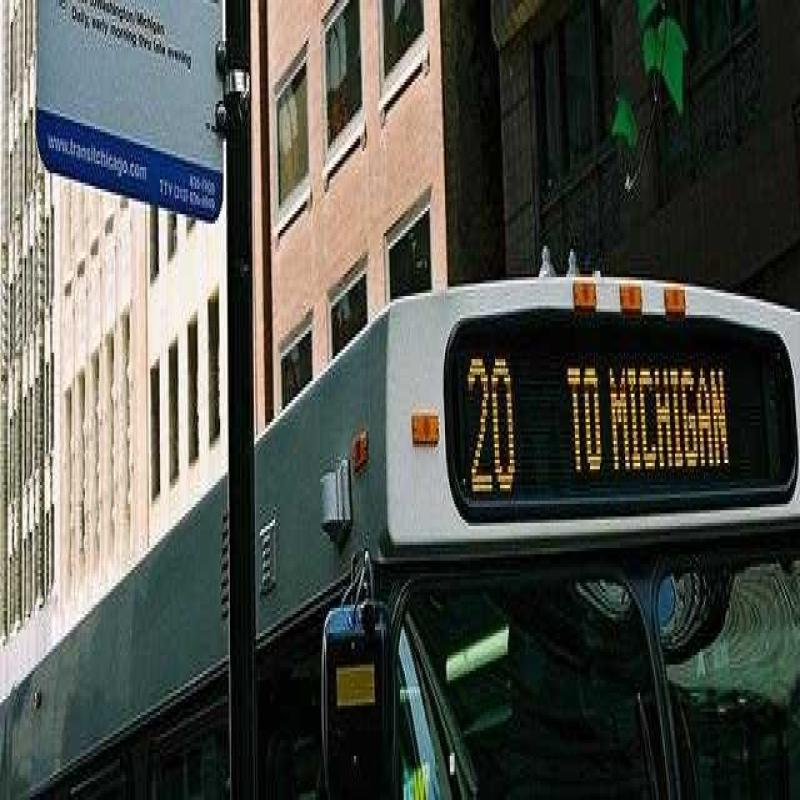bus: (19, 242, 800, 800)
